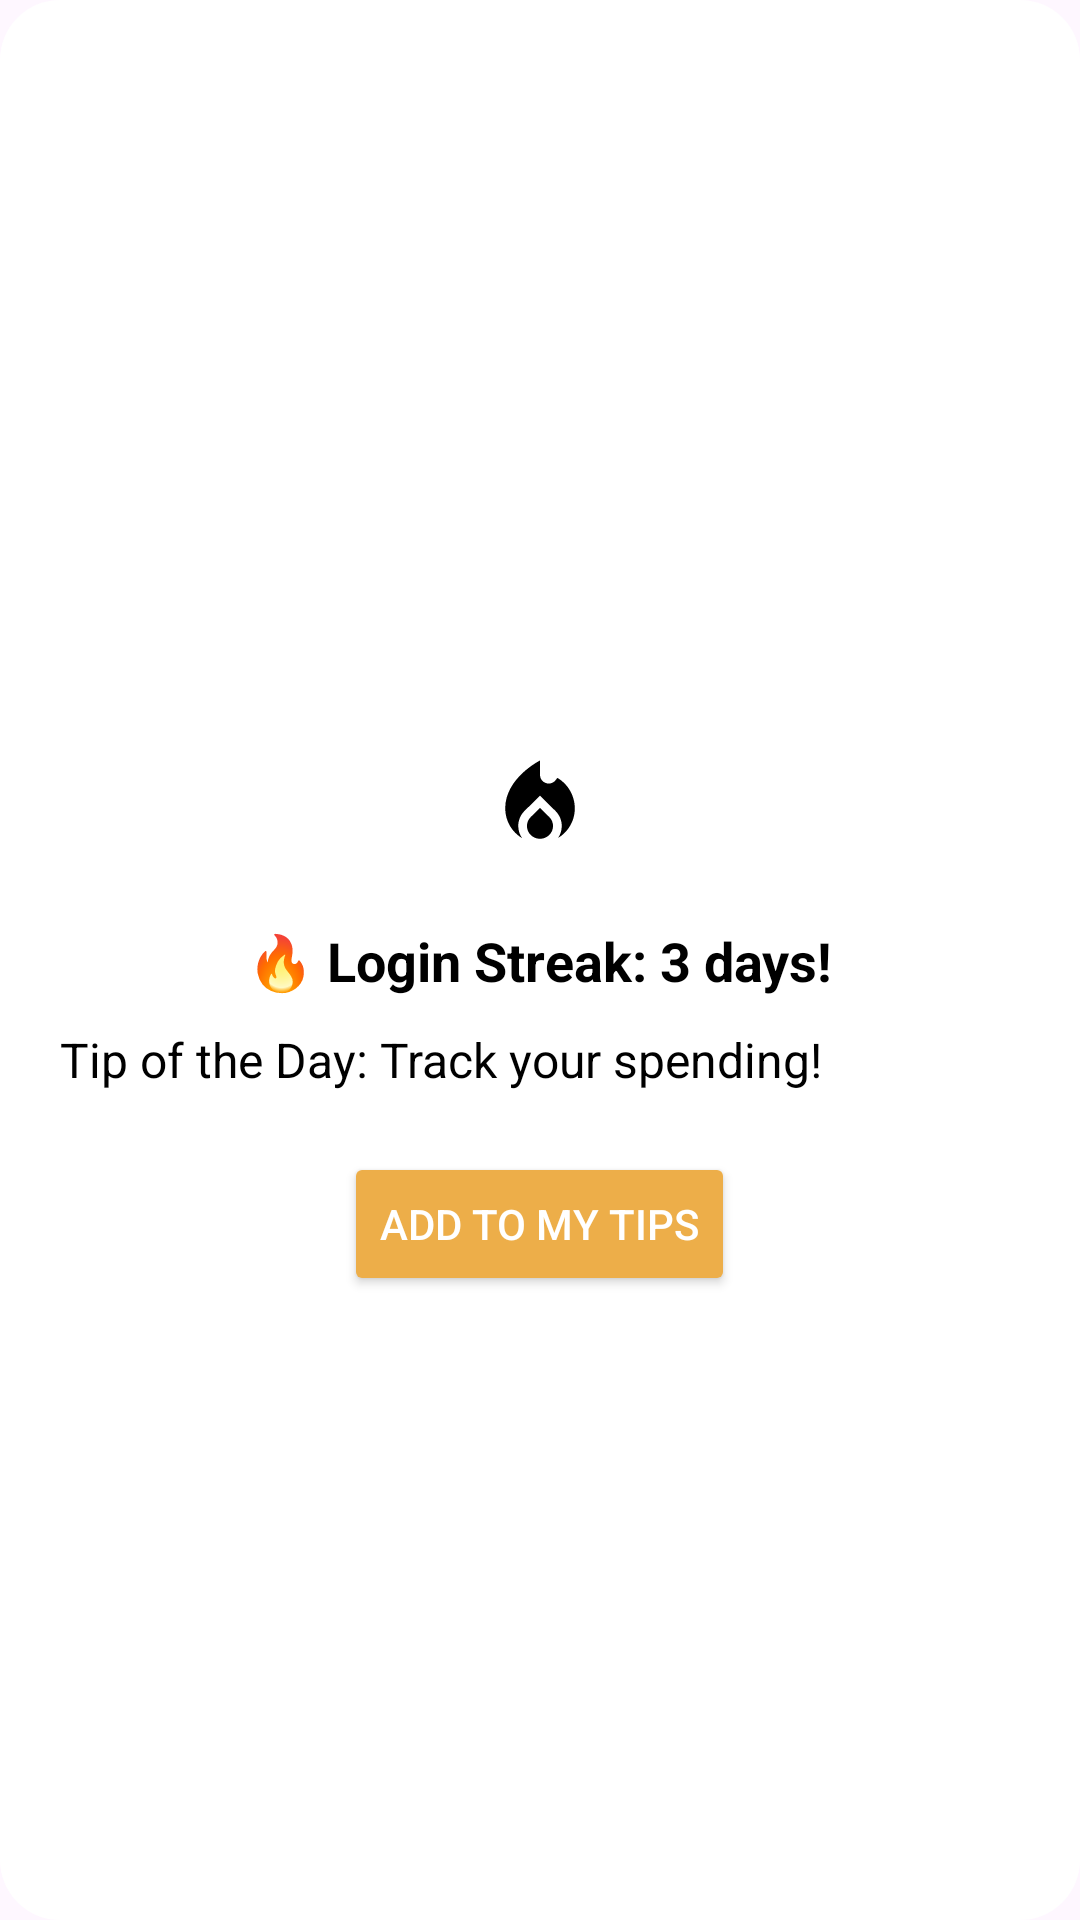

Icon bounding boxes for this 1080*1920 phone screenshot, format (x1, y1, x2, y2):
fire: (505, 760, 575, 839)
